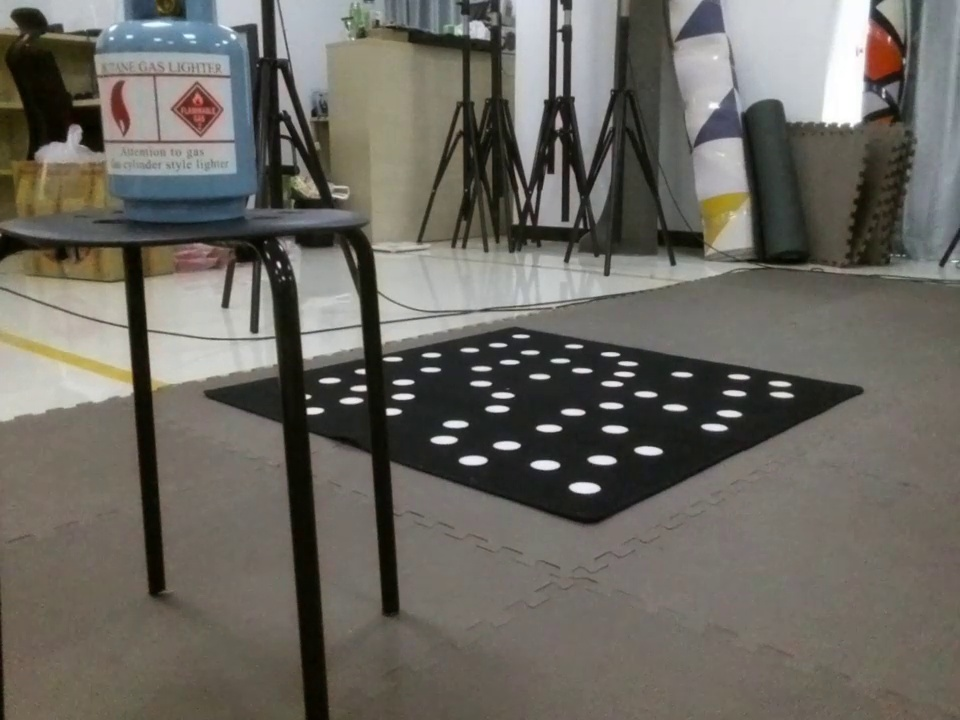gas tank: (86, 1, 282, 229)
